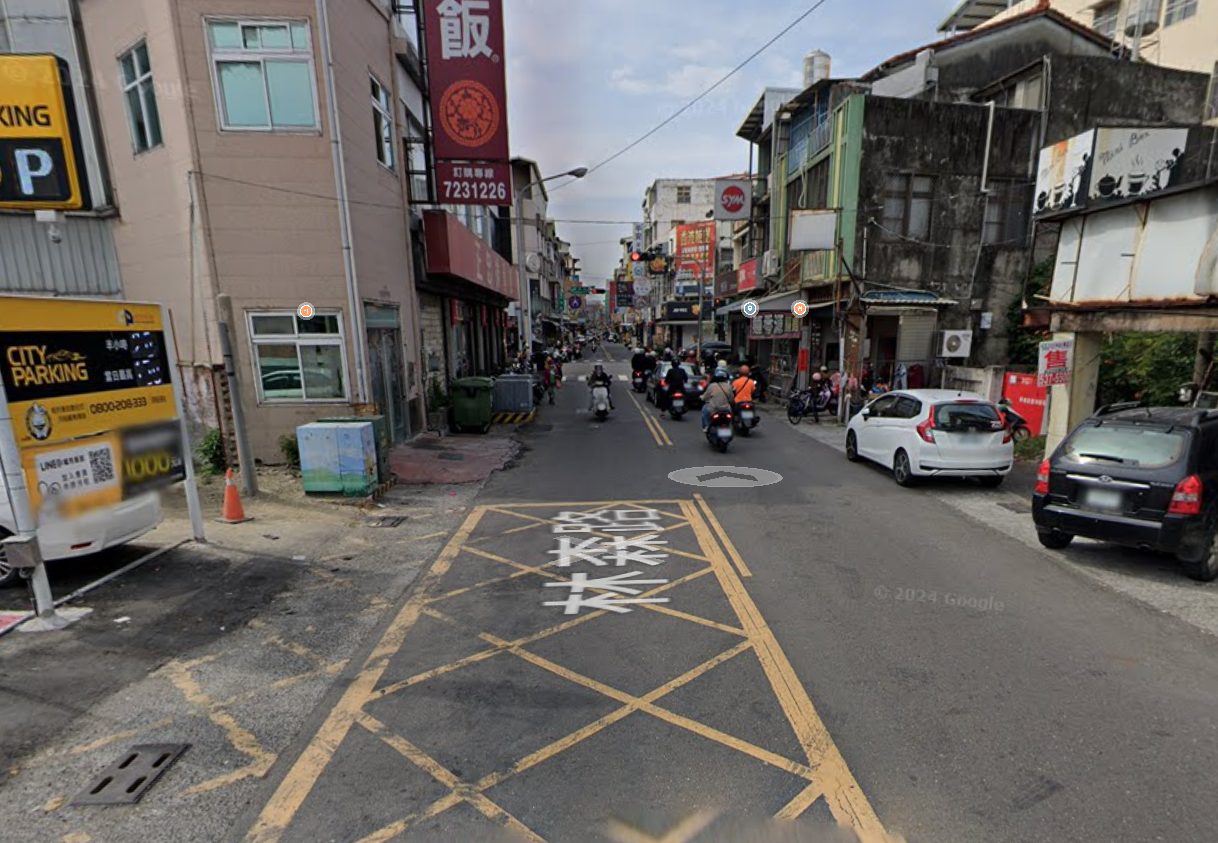red: (631, 248, 659, 263), (591, 285, 608, 296)
